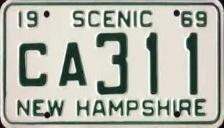1: (183, 30, 202, 98), (144, 30, 163, 97)
3: (94, 30, 133, 98)
A: (56, 41, 89, 88)
C: (18, 41, 50, 87)
